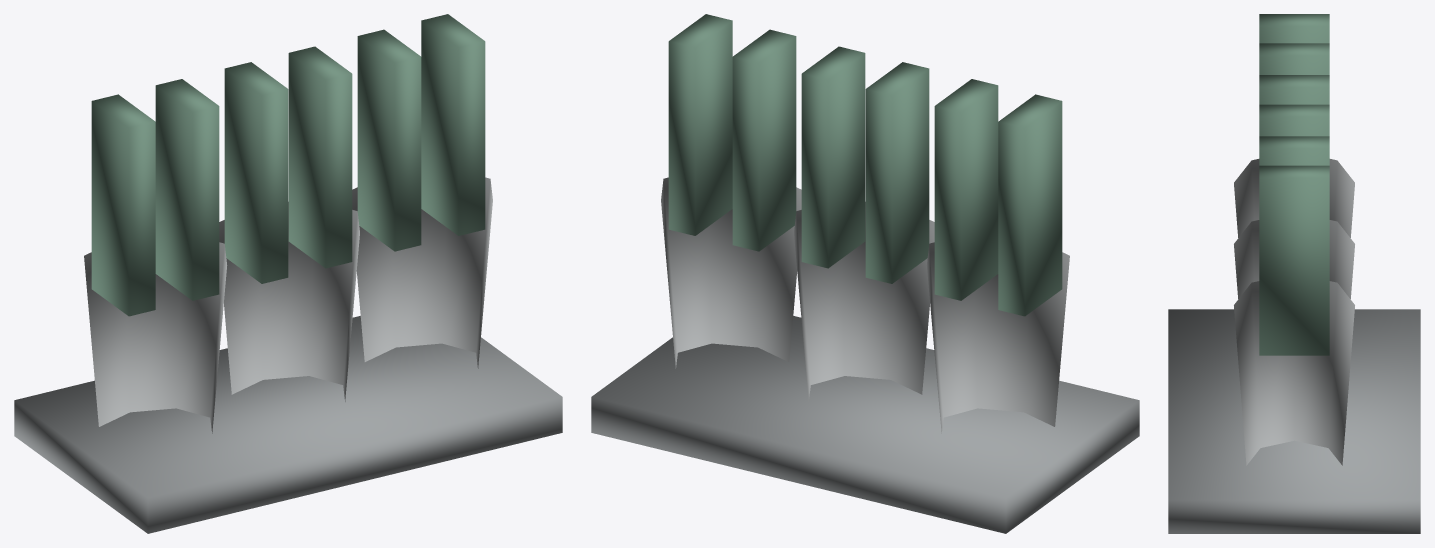
Rendered from standing_floral_display__wide.glb.
3 views of the same model, side by side, from view 1: azimuth 30°, elevation 25°; view 2: azimuth 150°, elevation 25°; view 3: azimuth 270°, elevation 25° (orthographic). The views are drawn at different scales.
Visible parts, largest first — view 1: world; view 2: world; view 3: world.
Part boxes in pixels (bbox=[...]): world: bbox=[14, 14, 562, 533]; world: bbox=[591, 14, 1139, 533]; world: bbox=[1168, 14, 1420, 533].
Size of the model in its own units: 0.9672 by 0.81 by 0.54.
